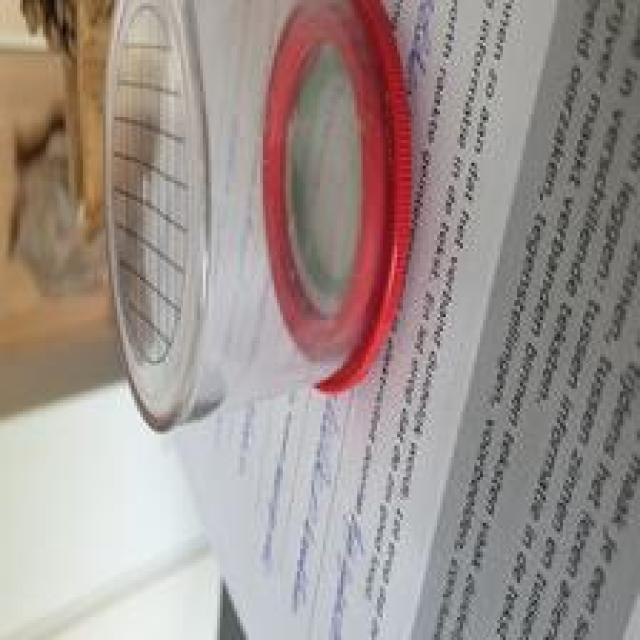Culex: (98, 0, 415, 434)
